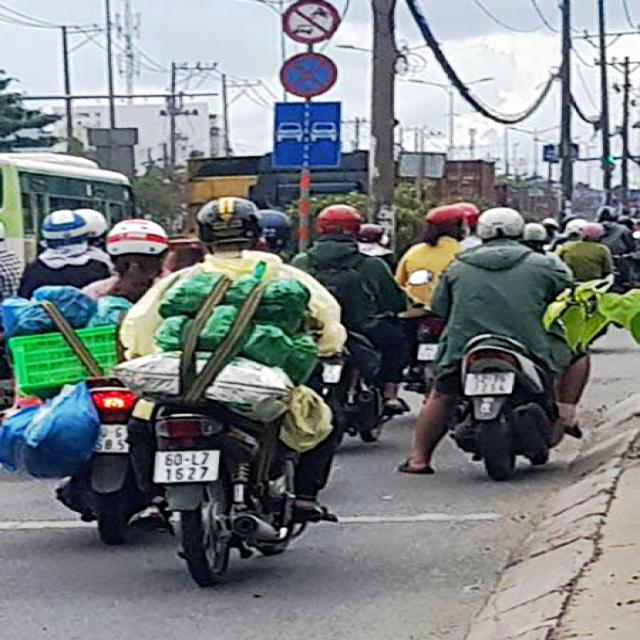license_plate: (154, 449, 222, 484), (465, 371, 518, 397)
